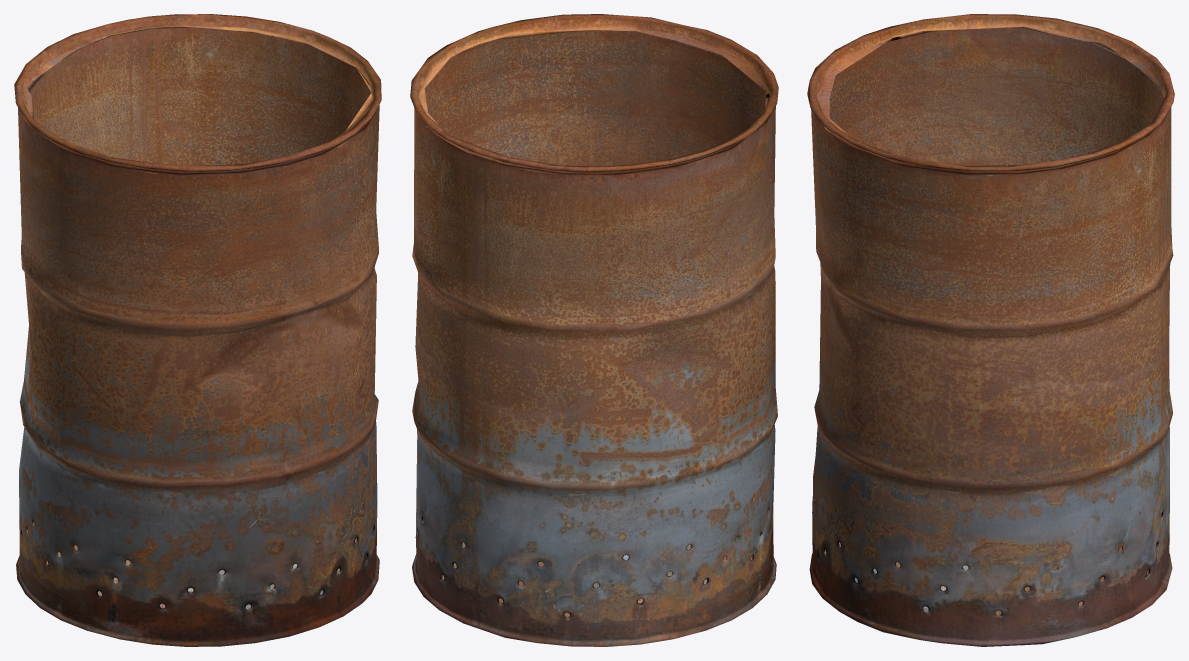
File: stove.glb
3 renders of one model, left to right at view 1: azimuth 30°, elevation 25°; view 2: azimuth 150°, elevation 25°; view 3: azimuth 270°, elevation 25°, orthographic.
Visible parts, largest first — view 1: stove; view 2: stove; view 3: stove.
Boxes of the visible parts, box(x1,y1,x2,y2) form: stove: box(14, 14, 381, 646); stove: box(410, 14, 778, 646); stove: box(807, 14, 1174, 646).
Bounding box in the file's own units: 0.5928 × 0.857 × 0.5926.
Materials: 1 (1 with a texture image).
